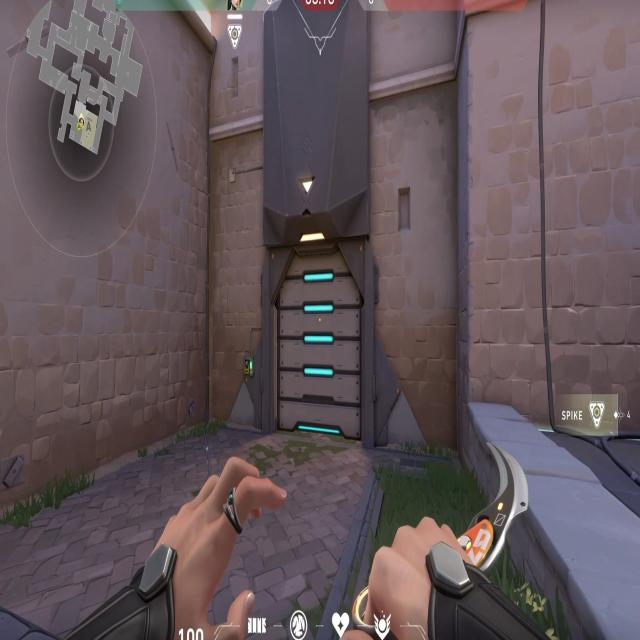A_Door: (266, 244, 372, 437)
